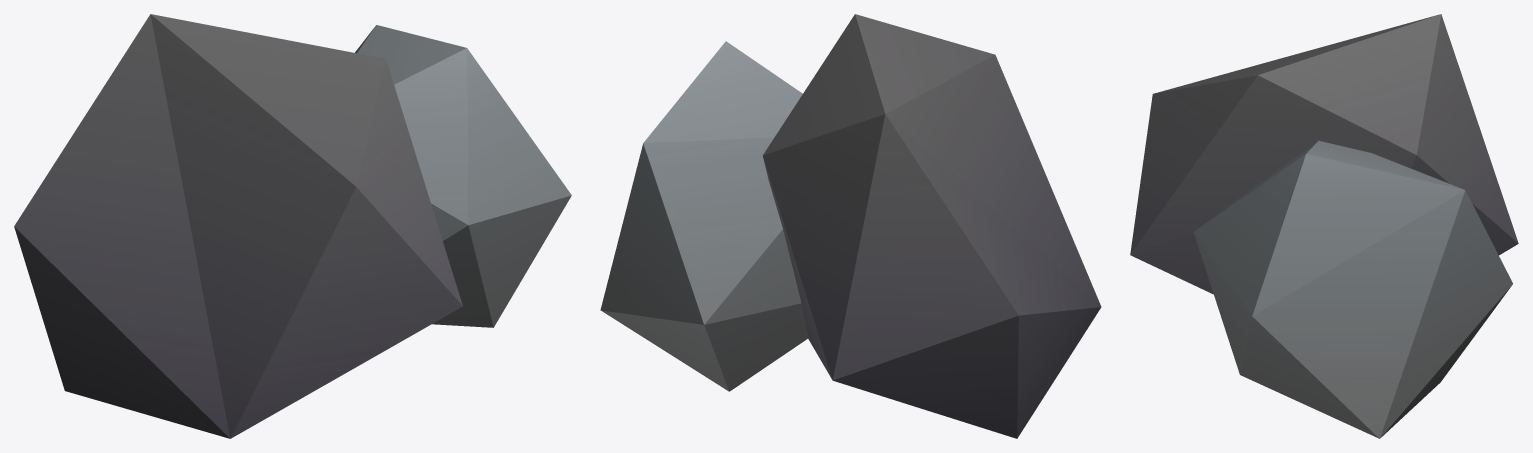
File: Gradient_Rock_07.glb
3 views of the same model, side by side, from view 1: azimuth 30°, elevation 25°; view 2: azimuth 150°, elevation 25°; view 3: azimuth 270°, elevation 25° (orthographic). The views are drawn at different scales.
Parts seen in each view (by area): view 1: Rock 07 g; view 2: Rock 07 g; view 3: Rock 07 g.
Boxes of the visible parts, x1,y1,x2,y2 form: Rock 07 g: [14, 14, 571, 438]; Rock 07 g: [600, 14, 1101, 438]; Rock 07 g: [1130, 14, 1518, 438].
Size of the model in its own units: 2.22 by 1.5 by 1.77.
1 material, 1 textured.
